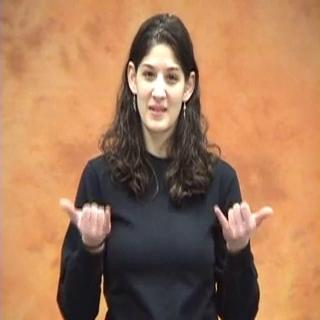now: (54, 194, 278, 253)
